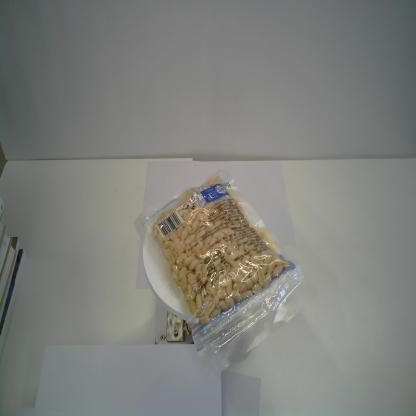Dried Fruit: (133, 167, 320, 377)
